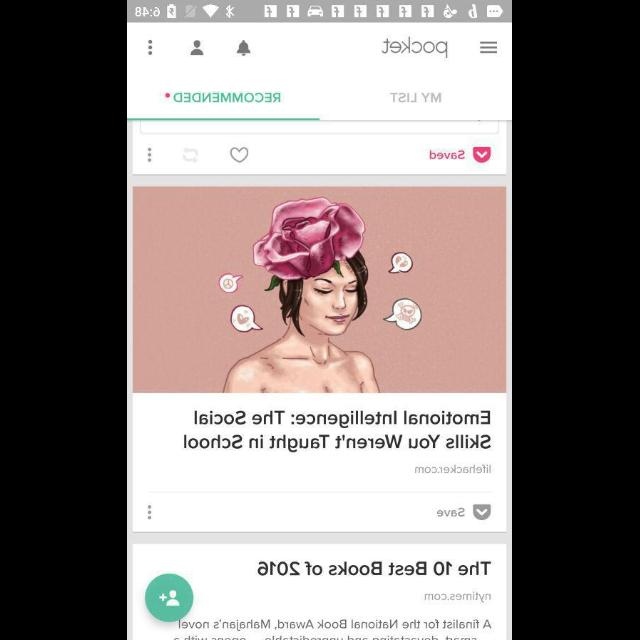button: (146, 574, 194, 622)
icon: (472, 147, 492, 163), (473, 504, 491, 520), (230, 148, 248, 164), (237, 41, 251, 58), (480, 41, 498, 54), (192, 40, 204, 56), (148, 504, 152, 520), (148, 148, 152, 164), (149, 39, 153, 55)
image: (134, 187, 506, 393), (182, 148, 200, 164)
panel: (132, 186, 508, 534), (134, 544, 508, 640)
text: (184, 410, 492, 452), (178, 619, 492, 631), (258, 562, 492, 576), (382, 37, 448, 59), (175, 92, 282, 104), (426, 591, 492, 603), (414, 464, 492, 474), (391, 92, 442, 104), (430, 150, 466, 160), (438, 508, 466, 516)
uppertaskbar: (128, 1, 512, 23)
